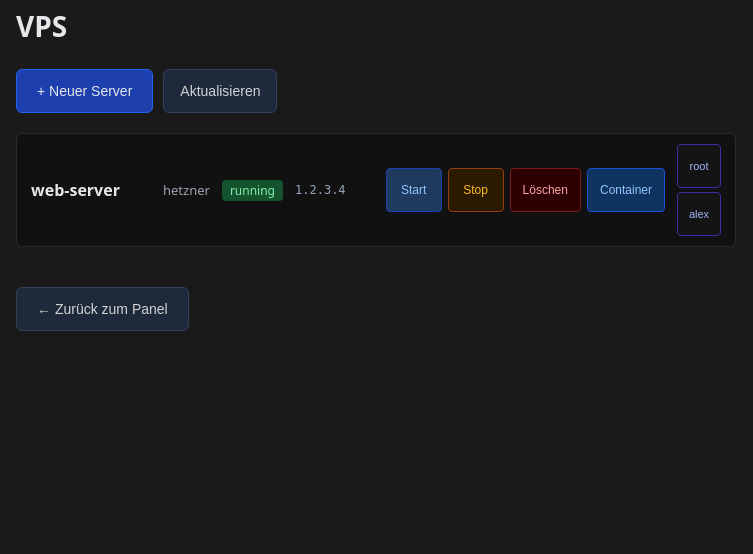
Test: VpsViewDelete — AC9: type-to-confirm › Abbrechen schließt Dialog folgenlos ohne DELETE
Click the button with aria-label "web-server löschen" at (545, 190), box [510, 168, 581, 212]
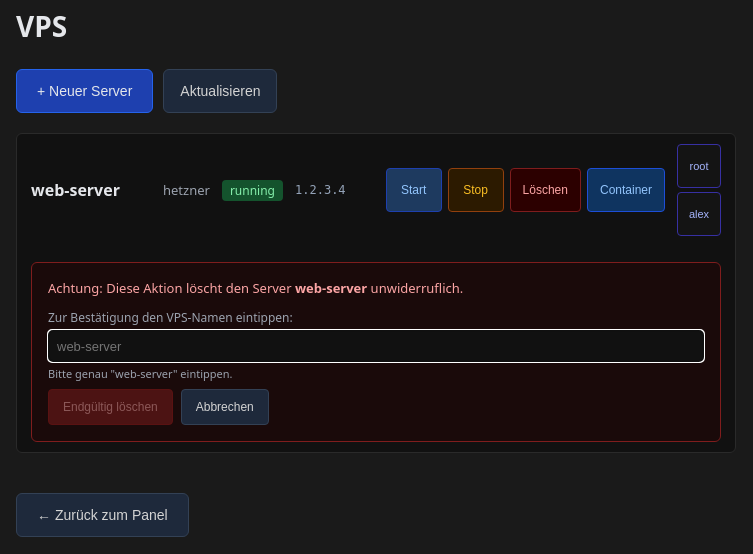
Click the button "Abbrechen" at (225, 407), box [181, 389, 269, 425]
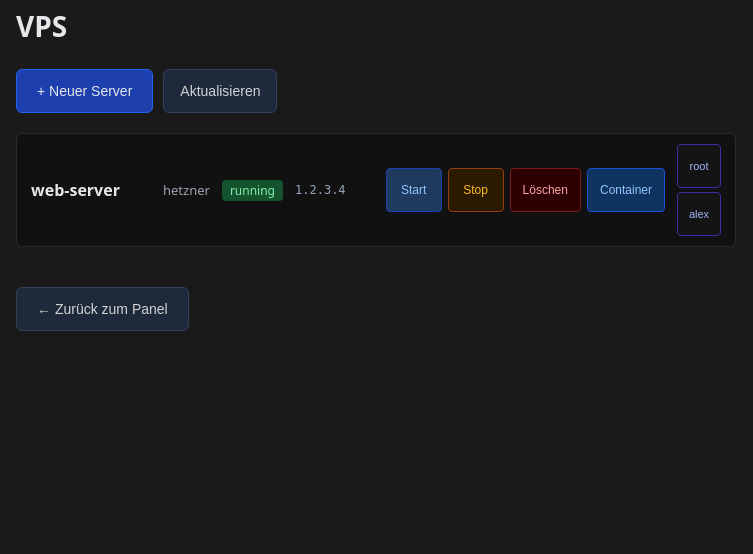
expect the button "Endgültig löschen" is gone: met
